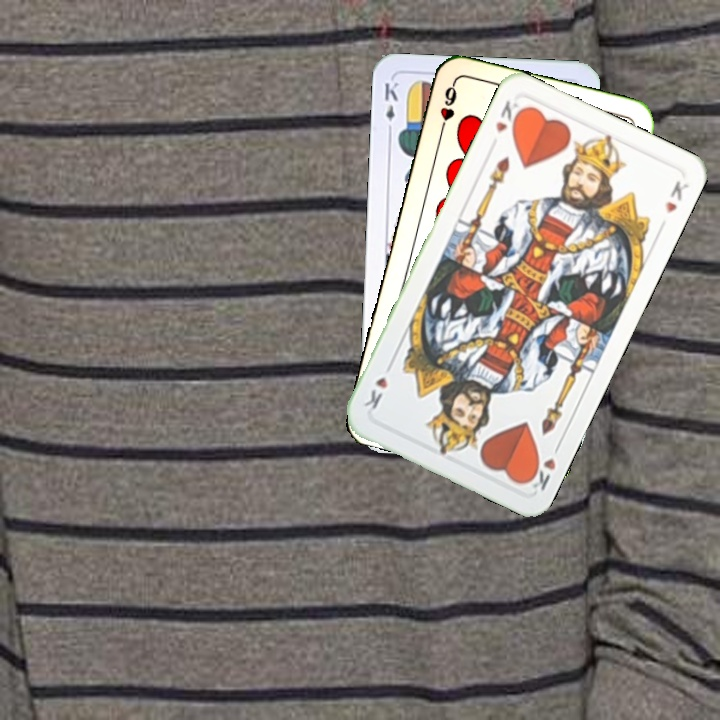EK: (380, 78, 401, 137)
H9: (435, 79, 460, 138)
HK: (521, 438, 564, 494), (491, 95, 526, 137)
